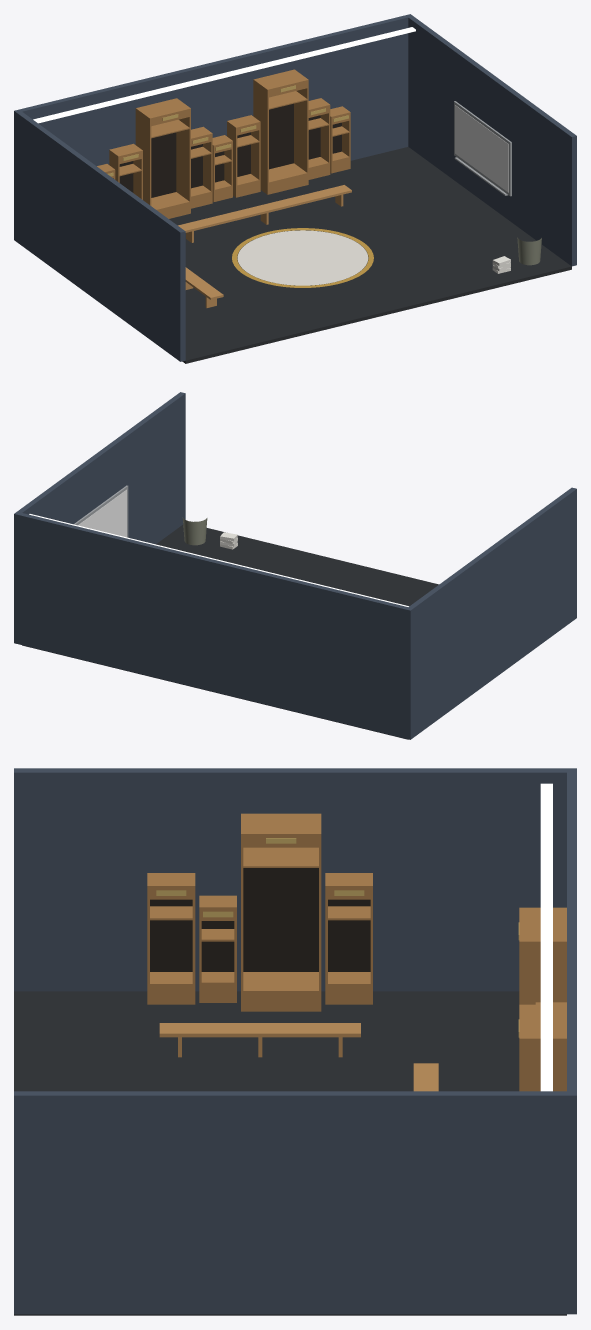
Rendered from loc_locker_room.glb.
The picture shows the model from 3 angles, top to bottom: view 1: azimuth 30°, elevation 25°; view 2: azimuth 150°, elevation 25°; view 3: azimuth 270°, elevation 25°; orthographic projection. The views are drawn at different scales.
Parts seen in each view (by area): view 1: walls, floor, logo_floor_disc, locker_07_frame, locker_03_frame, whiteboard_board, benches, cove_light, locker_06_frame, locker_03_back, locker_07_back, locker_08_frame (+8 smaller); view 2: walls, floor, whiteboard_board, cove_light, laundry_bin; view 3: walls, floor, locker_11_frame, locker_11_back, benches, cove_light, locker_13_frame, locker_10_frame, locker_03_frame, locker_07_frame, locker_12_frame, locker_10_back (+2 smaller).
Part boxes in pixels (<box>): walls: <box>14,14,576,361</box>; floor: <box>169,147,571,363</box>; logo_floor_disc: <box>237,230,368,285</box>; locker_07_frame: <box>253,69,308,194</box>; locker_03_frame: <box>135,98,190,218</box>; whiteboard_board: <box>455,105,508,192</box>; benches: <box>178,185,351,307</box>; cove_light: <box>33,27,415,123</box>; locker_06_frame: <box>227,115,260,197</box>; locker_03_back: <box>151,132,176,197</box>; locker_07_back: <box>269,103,293,169</box>; locker_08_frame: <box>308,98,330,179</box>; walls: <box>14,392,576,739</box>; floor: <box>22,524,438,739</box>; whiteboard_board: <box>78,489,126,537</box>; cove_light: <box>29,514,408,606</box>; laundry_bin: <box>182,517,207,545</box>; walls: <box>14,768,576,1314</box>; floor: <box>14,991,566,1315</box>; locker_11_frame: <box>241,813,321,1011</box>; locker_11_back: <box>243,868,318,971</box>; benches: <box>159,1023,438,1091</box>; cove_light: <box>540,783,552,1091</box>; locker_13_frame: <box>147,873,195,1004</box>; locker_10_frame: <box>325,873,372,1004</box>; locker_03_frame: <box>519,907,566,1004</box>; locker_07_frame: <box>519,1004,566,1091</box>; locker_12_frame: <box>199,895,236,1002</box>; locker_10_back: <box>328,899,370,971</box>.
Size of the model in its own units: 15.4 by 4.92 by 11.2.
